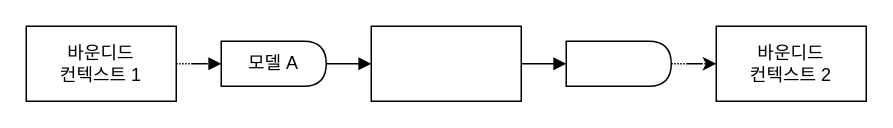
The diagram is 893 pixels wide and 128 high, and some of its shapes have lost their labels. The centre of each missing label's shape, as x and y in pixels:
메시지 프록시: the point at 445,63
모델 B: the point at 618,63
